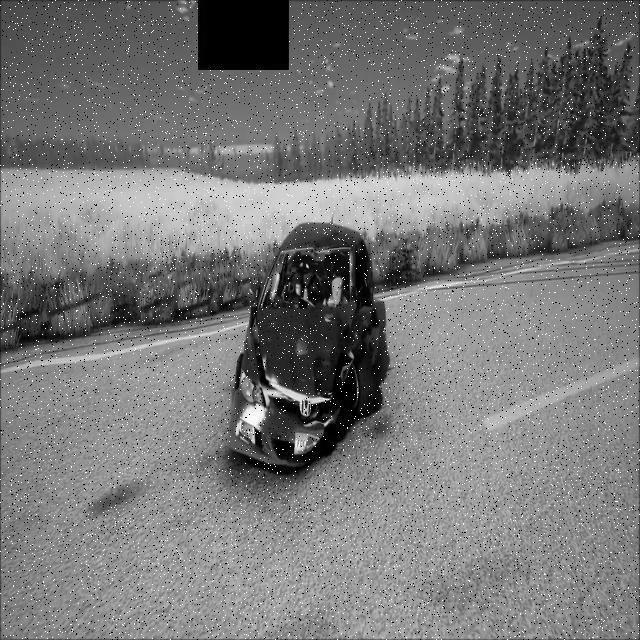accident: (225, 218, 385, 478)
